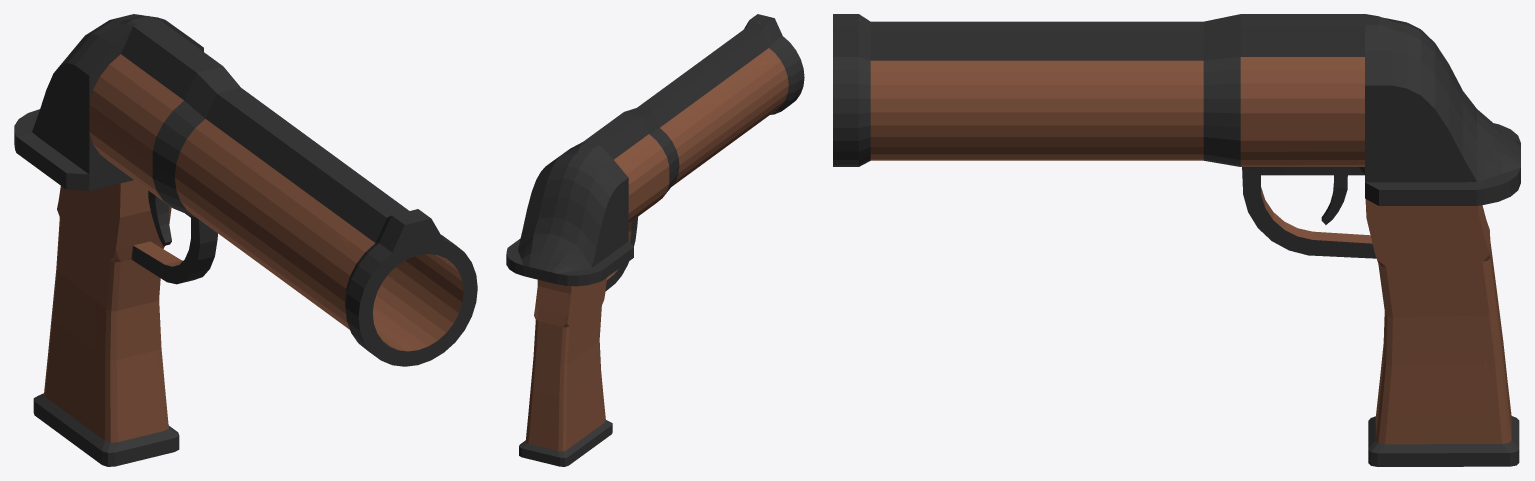
File: Forging_Sides_Revolver.fbx
3 renders of one model, left to right at view 1: azimuth 30°, elevation 25°; view 2: azimuth 150°, elevation 25°; view 3: azimuth 270°, elevation 25°, orthographic. The views are drawn at different scales.
Parts seen in each view (by area): view 1: Barrel Main; view 2: Barrel Main; view 3: Barrel Main.
Part boxes in pixels (x1,y1,x2,y2): Barrel Main: (14, 14, 477, 466); Barrel Main: (506, 14, 804, 466); Barrel Main: (833, 14, 1520, 466).
Size of the model in its own units: 93.06 by 266 by 387.
